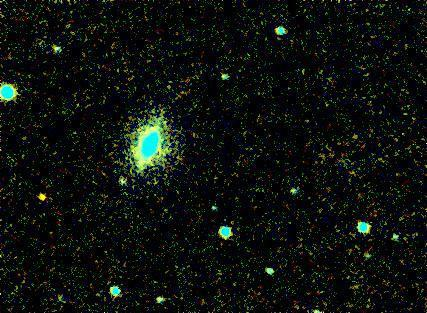star: (26, 184, 56, 214)
